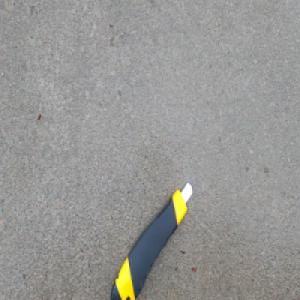Cutter: (107, 180, 193, 300)
